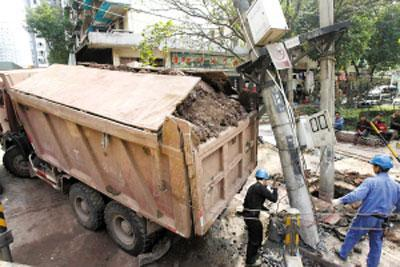helmet: (368, 152, 393, 178), (255, 166, 273, 189)
